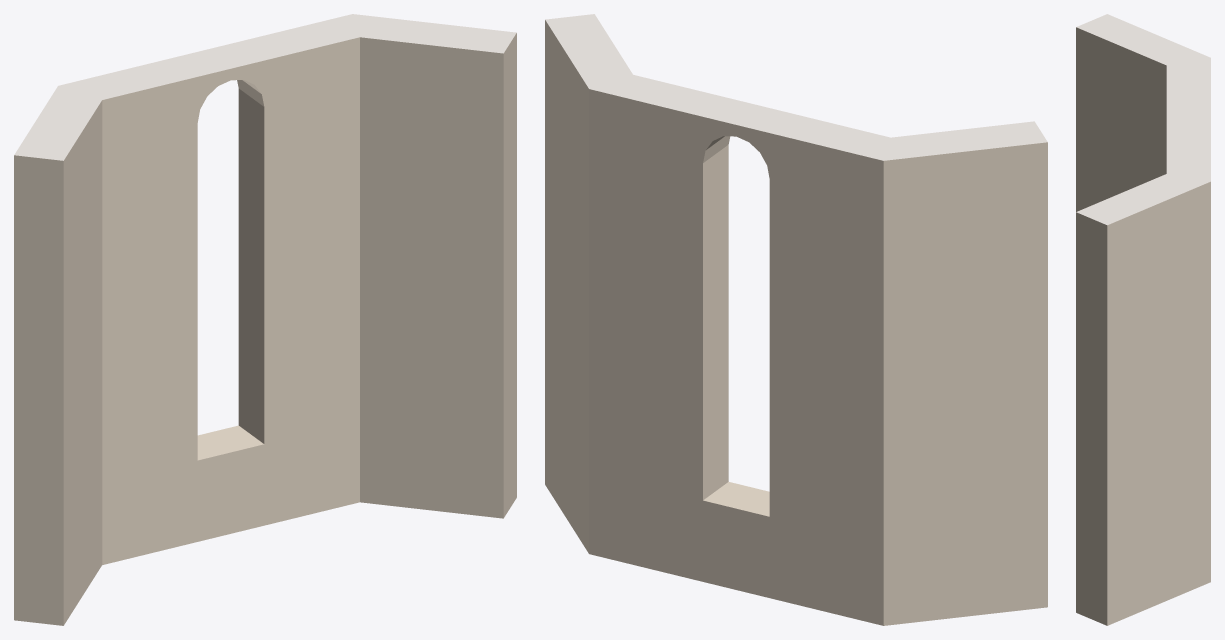
File: Tower_Wall_Tall_Window.glb
The picture shows the model from 3 angles, left to right: view 1: azimuth 30°, elevation 25°; view 2: azimuth 150°, elevation 25°; view 3: azimuth 270°, elevation 25°; orthographic projection. The views are drawn at different scales.
Visible parts, largest first — view 1: Tower_Wall_Tall_Window; view 2: Tower_Wall_Tall_Window; view 3: Tower_Wall_Tall_Window.
Part boxes in pixels (x1=…): Tower_Wall_Tall_Window: x1=14, y1=14, x2=516, y2=625; Tower_Wall_Tall_Window: x1=545, y1=14, x2=1047, y2=625; Tower_Wall_Tall_Window: x1=1076, y1=14, x2=1210, y2=625.
Bounding box in the file's own units: 2.26 × 2 × 0.6101.
